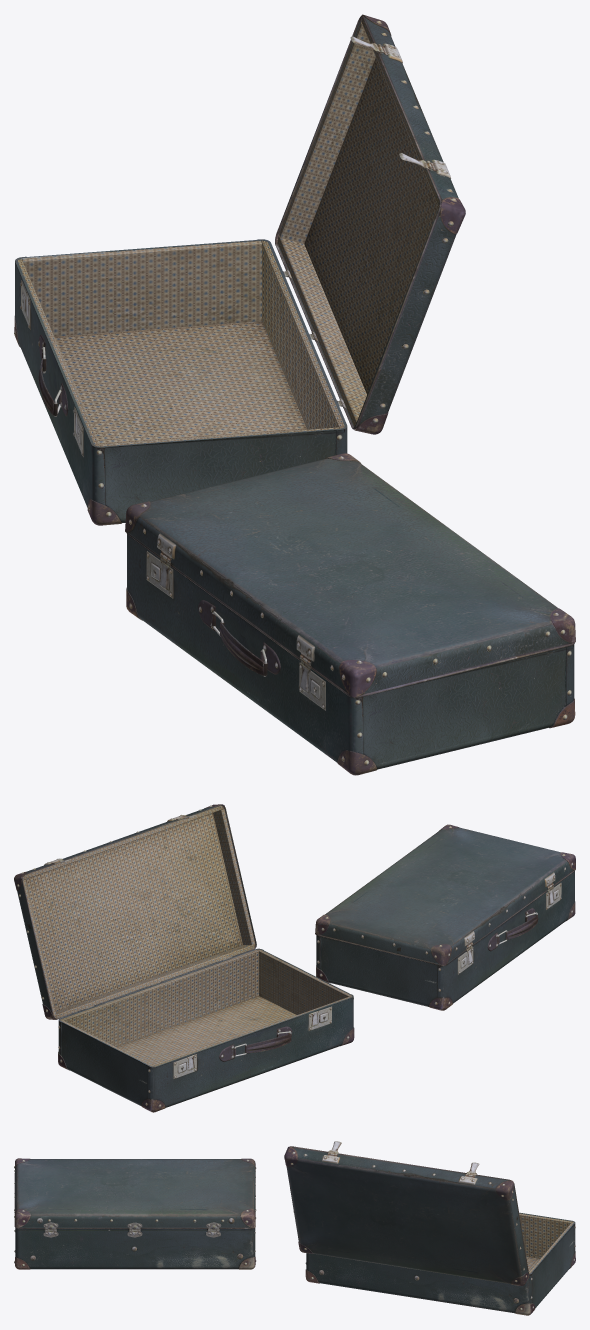
File: vintage_suitcase.glb
3 views of the same model, one above another, from view 1: azimuth 30°, elevation 25°; view 2: azimuth 150°, elevation 25°; view 3: azimuth 270°, elevation 25° (orthographic). The views are drawn at different scales.
Visible parts, largest first — view 1: Cube.001, Cube.008, Cube.002, Cube.003; view 2: Cube.002, Cube.001, Cube.008, Cube.003; view 3: Cube.002, Cube.008, Cube.001, Cube.003.
Boxes of the visible parts, left/top/right/bottom form: Cube.001: left=14, top=239, right=347, bottom=525; Cube.008: left=125, top=453, right=575, bottom=697; Cube.002: left=275, top=14, right=465, bottom=434; Cube.003: left=126, top=534, right=575, bottom=775; Cube.002: left=14, top=804, right=256, bottom=1019; Cube.001: left=58, top=948, right=354, bottom=1112; Cube.008: left=315, top=824, right=575, bottom=965; Cube.003: left=316, top=871, right=575, bottom=1010; Cube.002: left=284, top=1141, right=529, bottom=1285; Cube.008: left=14, top=1158, right=256, bottom=1230; Cube.001: left=305, top=1212, right=575, bottom=1315; Cube.003: left=14, top=1177, right=256, bottom=1269.
Size of the model in its own units: 2.76 by 1.59 by 4.95.
Materials: 6 (6 with a texture image).
